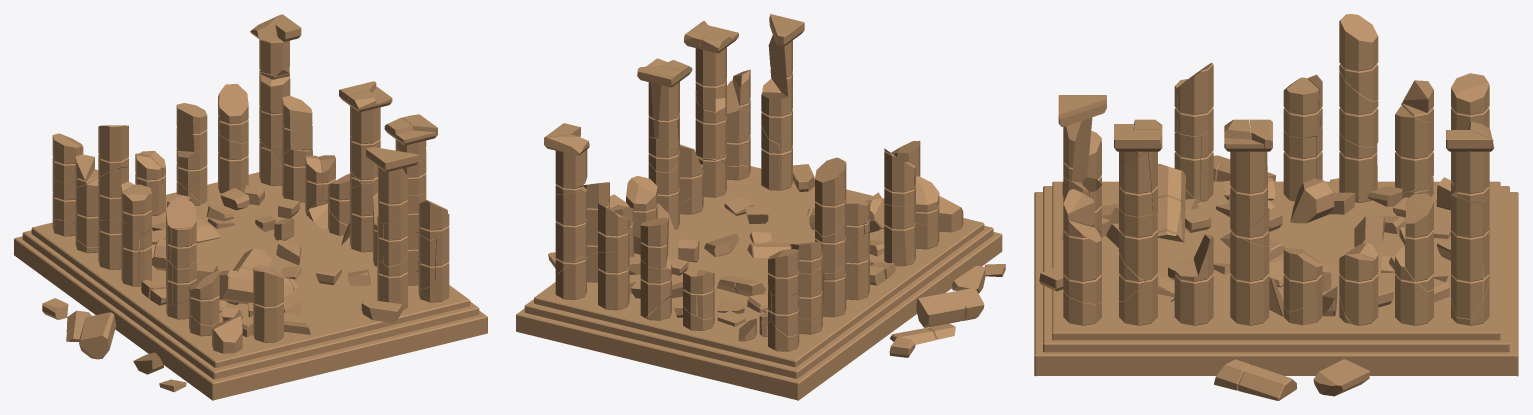
Rendered from Parthenon-Destroyed2.obj.
3 views of the same model, side by side, from view 1: azimuth 30°, elevation 25°; view 2: azimuth 150°, elevation 25°; view 3: azimuth 270°, elevation 25° (orthographic). The views are drawn at different scales.
Parts seen in each view (by area): view 1: pillars_b_cell.259_pillars_b_cell.260; view 2: pillars_b_cell.259_pillars_b_cell.260; view 3: pillars_b_cell.259_pillars_b_cell.260.
Boxes of the visible parts, x1=… form: pillars_b_cell.259_pillars_b_cell.260: x1=14, y1=14, x2=487, y2=400; pillars_b_cell.259_pillars_b_cell.260: x1=516, y1=14, x2=1005, y2=400; pillars_b_cell.259_pillars_b_cell.260: x1=1034, y1=14, x2=1518, y2=400.
Bounding box in the file's own units: 2.22 × 1.03 × 2.
